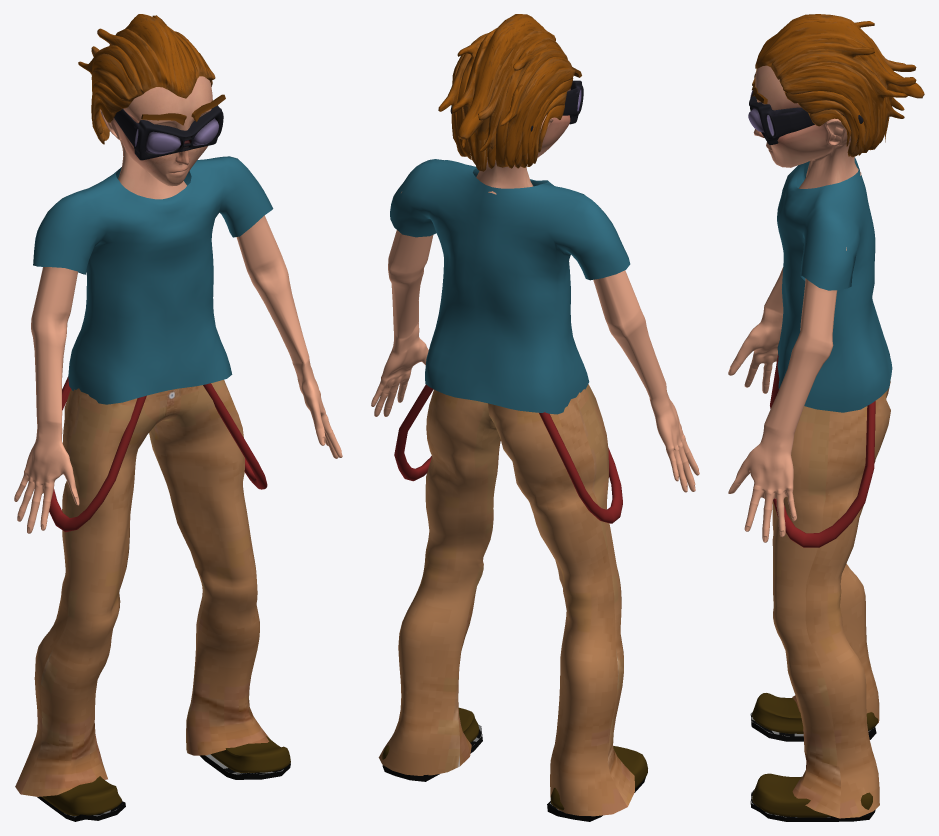
Rendered from DweebFinal.obj.
The picture shows the model from 3 angles, left to right: view 1: azimuth 30°, elevation 25°; view 2: azimuth 150°, elevation 25°; view 3: azimuth 270°, elevation 25°; orthographic projection.
Visible parts, largest first — view 1: polySurface209, head3:polySurface40 head3:polySurface183 polySurface209; view 2: polySurface209, head3:polySurface40 head3:polySurface183 polySurface209; view 3: polySurface209, head3:polySurface40 head3:polySurface183 polySurface209.
Part boxes in pixels (x1,y1,x2,y2): polySurface209: (14,14,342,821); head3:polySurface40 head3:polySurface183 polySurface209: (100,76,212,199); polySurface209: (371,14,699,821); head3:polySurface40 head3:polySurface183 polySurface209: (476,88,570,194); polySurface209: (728,14,924,821); head3:polySurface40 head3:polySurface183 polySurface209: (753,65,861,188).
Size of the model in its own units: 2.75 by 6.39 by 1.5.
Materials: 12 (4 with a texture image).
